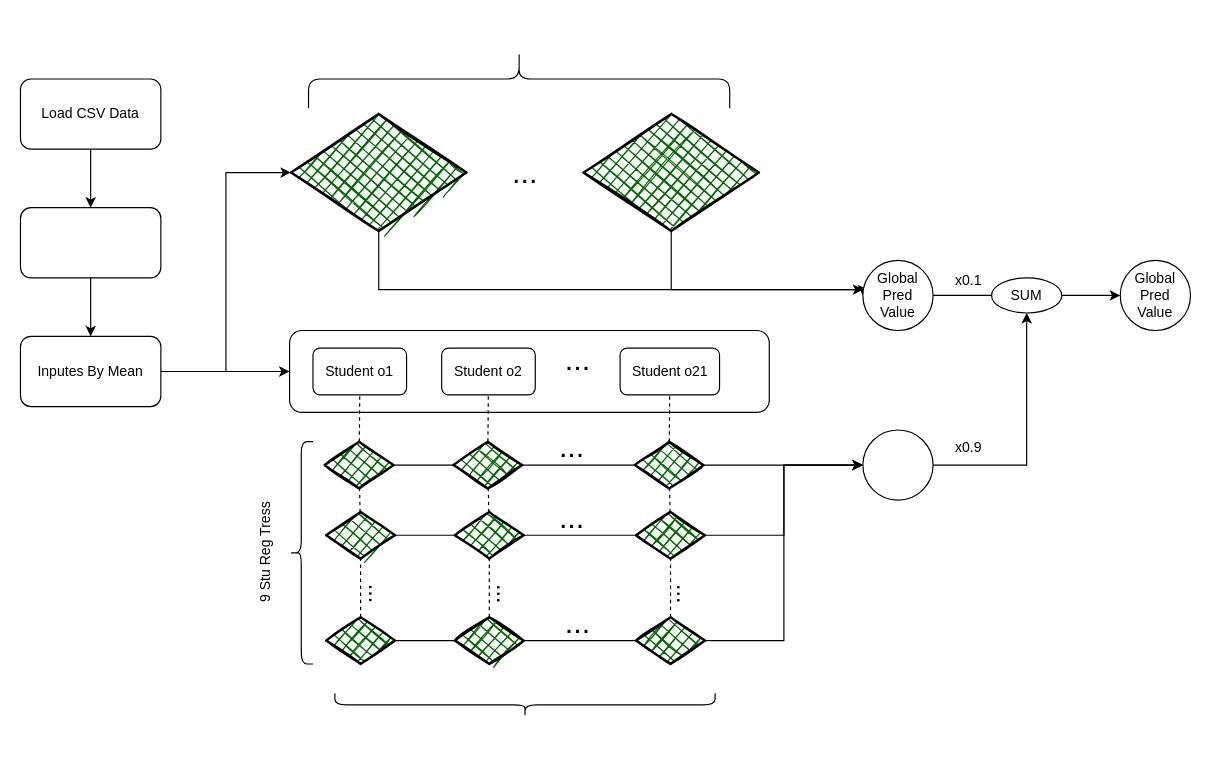
The diagram is 1211 pixels wide and 777 high, and some of its shapes have lost their labels. Each missing label, with the box of its shape:
21 Stus: (334, 692, 715, 717)
9 Global Reg Trees: (307, 49, 730, 108)
Convert Into Matrix: (19, 207, 161, 278)
Stu Pred Value: (862, 429, 933, 500)
